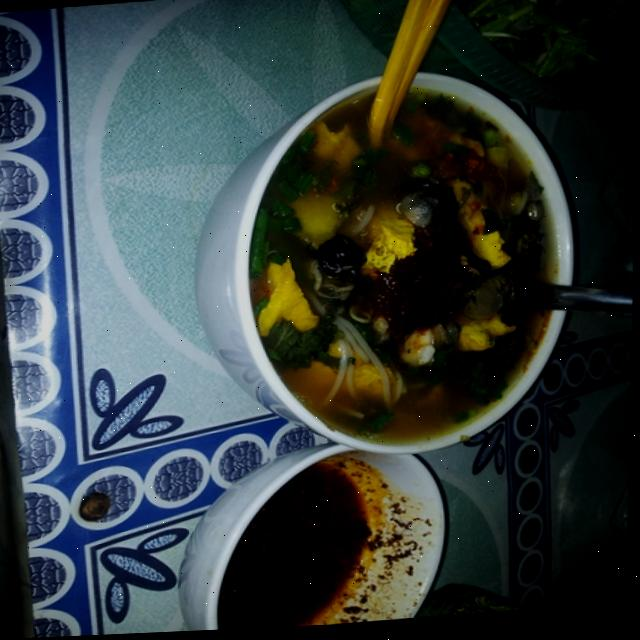面条主食: (186, 32, 626, 482)
